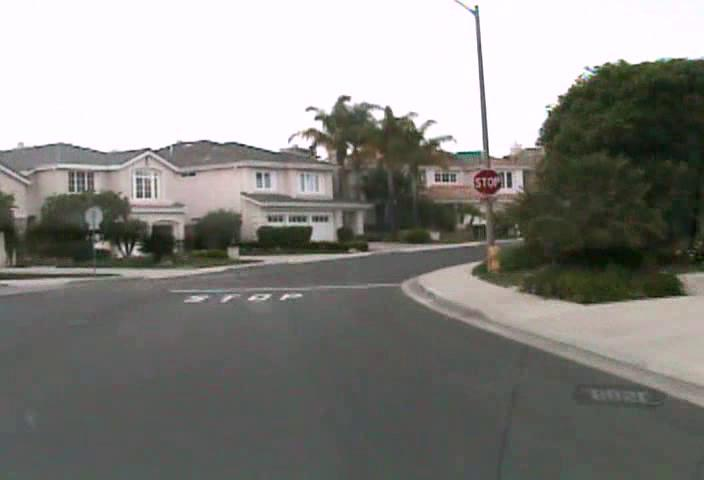stop: (472, 167, 501, 196)
